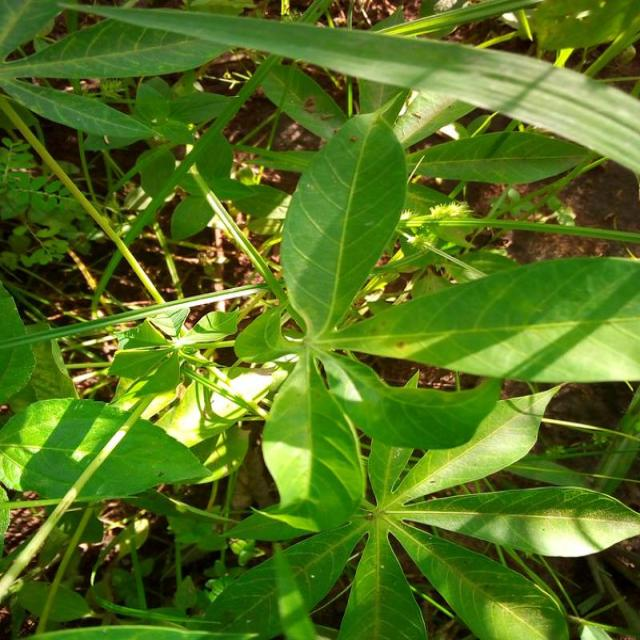cassava leaf: (328, 254, 639, 384), (278, 105, 408, 338), (0, 394, 209, 506)
